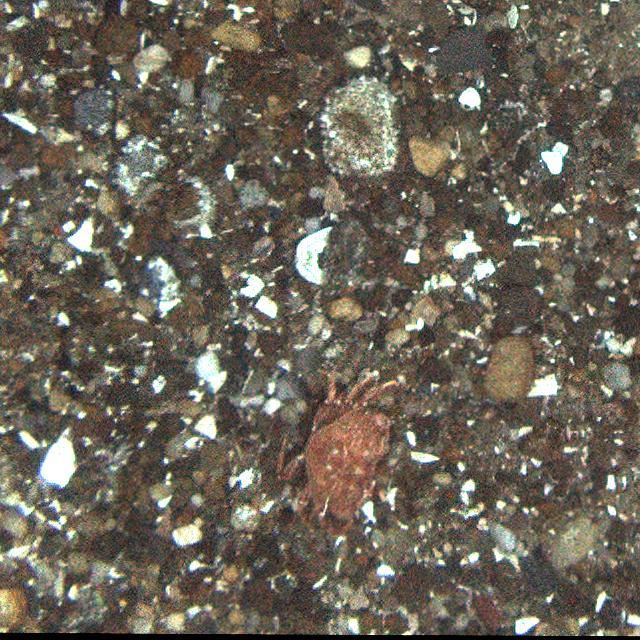crab: (284, 361, 397, 531)
